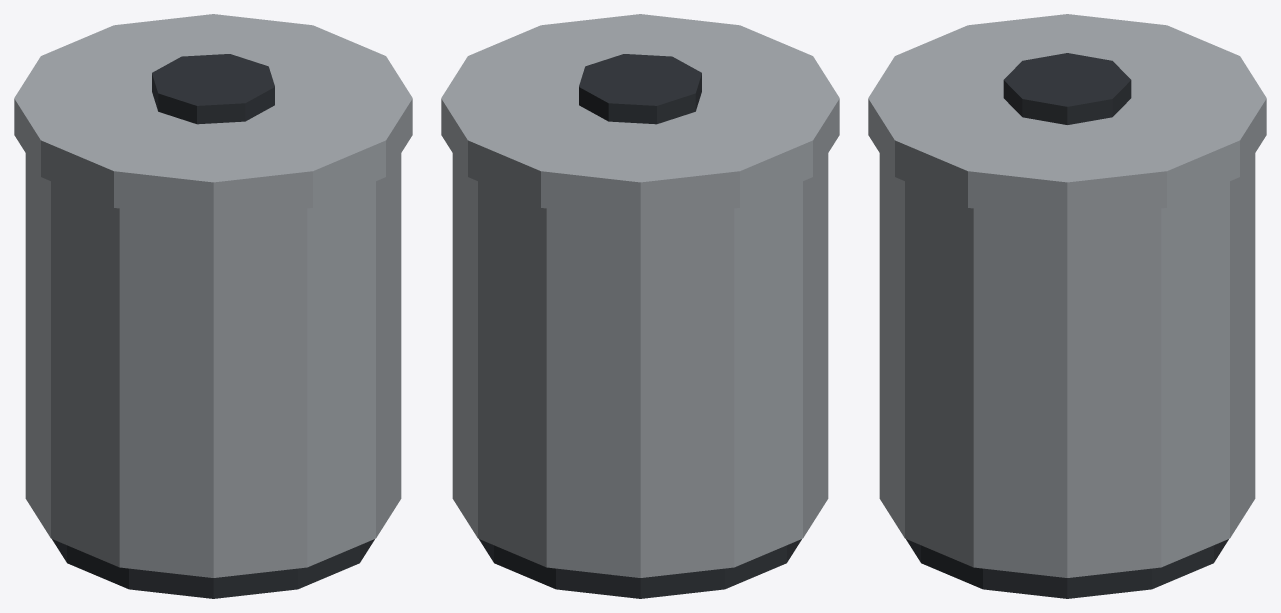
Rendered from SM_LPI_Bath_Bin_01.fbx.
3 views of the same model, side by side, from view 1: azimuth 30°, elevation 25°; view 2: azimuth 150°, elevation 25°; view 3: azimuth 270°, elevation 25° (orthographic).
Parts seen in each view (by area): view 1: SM_LPI_Bath_Bin_01; view 2: SM_LPI_Bath_Bin_01; view 3: SM_LPI_Bath_Bin_01.
Boxes of the visible parts, x1,y1,x2,y2 form: SM_LPI_Bath_Bin_01: [14, 14, 412, 598]; SM_LPI_Bath_Bin_01: [441, 14, 839, 598]; SM_LPI_Bath_Bin_01: [868, 14, 1266, 598].
Bounding box in the file's own units: 0.276 × 0.342 × 0.276.
